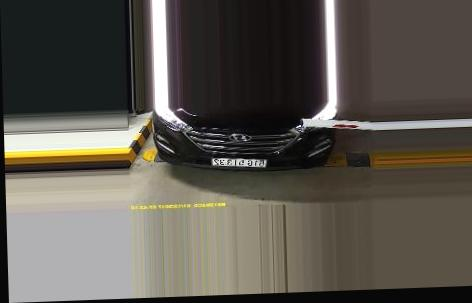License_Plate: (210, 153, 268, 169)
